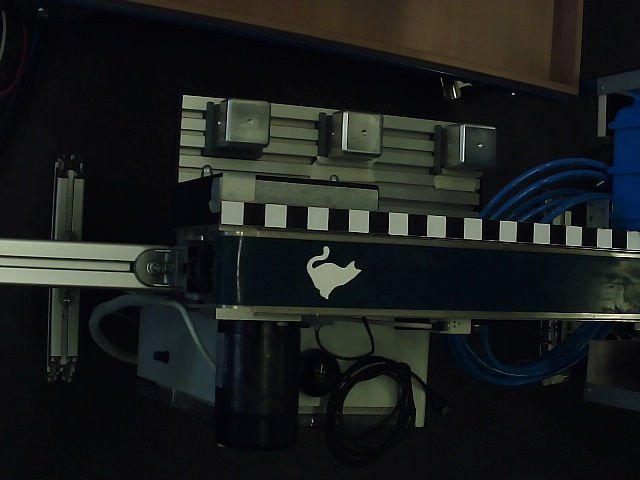cat: (307, 246, 362, 300)
